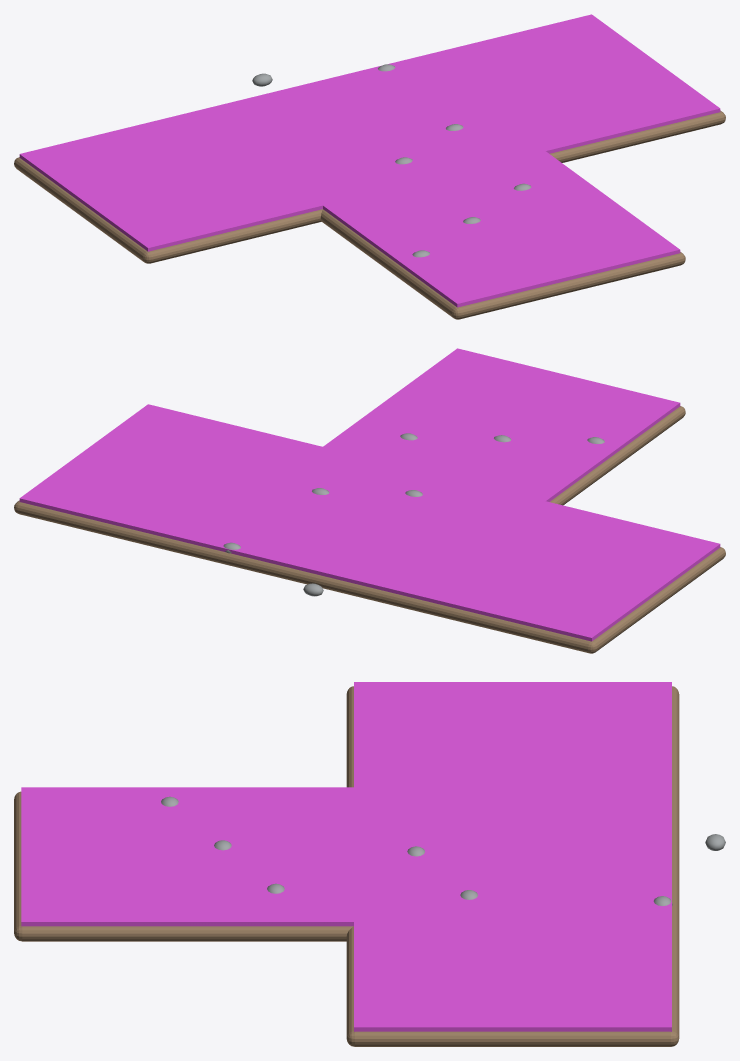
3 renders of one model, top to bottom at view 1: azimuth 30°, elevation 25°; view 2: azimuth 150°, elevation 25°; view 3: azimuth 270°, elevation 25°, orthographic. The views are drawn at different scales.
Parts seen in each view (by area): view 1: NAV_MASK_FOREST_PATH_DIRT_T_BAR, NAV_MASK_FOREST_PATH_DIRT_T_STEM, LOD0_FOREST_PATH_DIRT_T_Bar, LOD0_FOREST_PATH_DIRT_T_Stem; view 2: NAV_MASK_FOREST_PATH_DIRT_T_BAR, NAV_MASK_FOREST_PATH_DIRT_T_STEM, LOD0_FOREST_PATH_DIRT_T_Bar, LOD0_FOREST_PATH_DIRT_T_Stem; view 3: NAV_MASK_FOREST_PATH_DIRT_T_BAR, NAV_MASK_FOREST_PATH_DIRT_T_STEM, LOD0_FOREST_PATH_DIRT_T_Bar, LOD0_FOREST_PATH_DIRT_T_Stem.
Boxes of the visible parts, x1,y1,x2,y2 form: NAV_MASK_FOREST_PATH_DIRT_T_BAR: (19,14,720,251); NAV_MASK_FOREST_PATH_DIRT_T_STEM: (263,106,680,307); LOD0_FOREST_PATH_DIRT_T_Bar: (14,110,725,263); LOD0_FOREST_PATH_DIRT_T_Stem: (320,209,685,319); NAV_MASK_FOREST_PATH_DIRT_T_BAR: (19,404,720,641); NAV_MASK_FOREST_PATH_DIRT_T_STEM: (262,348,680,540); LOD0_FOREST_PATH_DIRT_T_Bar: (14,500,725,653); LOD0_FOREST_PATH_DIRT_T_Stem: (550,406,685,505); NAV_MASK_FOREST_PATH_DIRT_T_BAR: (354,682,671,1031); NAV_MASK_FOREST_PATH_DIRT_T_STEM: (21,787,505,926); LOD0_FOREST_PATH_DIRT_T_Bar: (346,686,679,1046); LOD0_FOREST_PATH_DIRT_T_Stem: (14,791,353,941).
Size of what is drawn, in the model's own units: 8 by 0.24 by 6.85.
